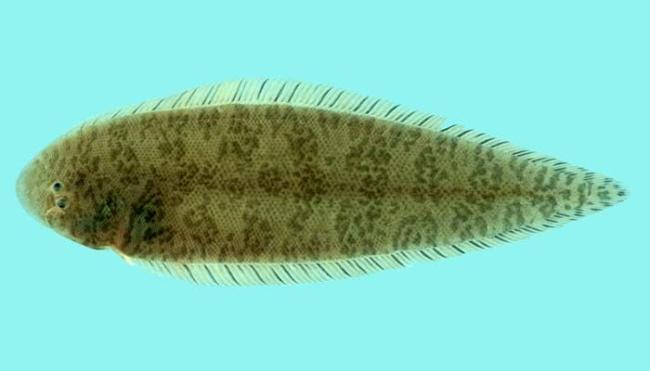fish: (15, 78, 631, 285)
